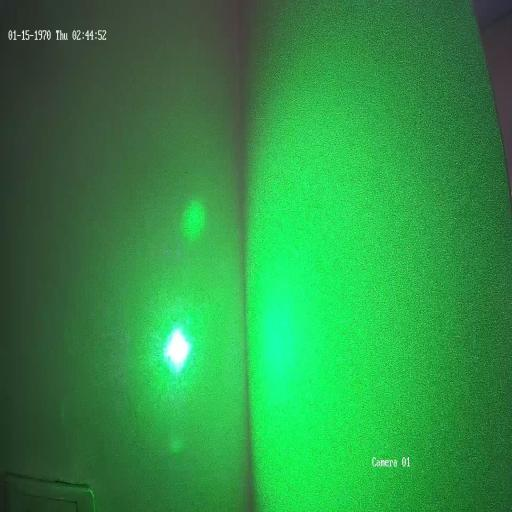laser: (156, 317, 197, 381)
